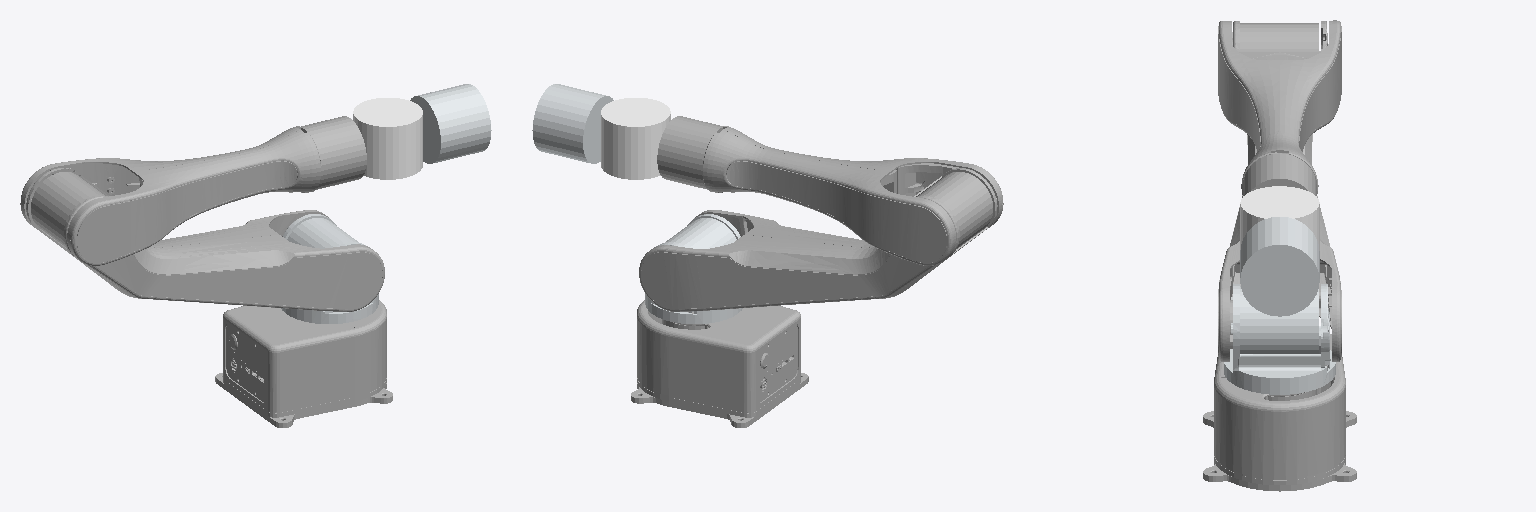
URDF robot description (airbot_play):
<?xml version="1.0" ?>
<!-- =================================================================================== -->
<!-- |    This document was autogenerated by xacro from src/robot_description/airbot/xacro/airbot.xacro | -->
<!-- |    EDITING THIS FILE BY HAND IS NOT RECOMMENDED                                 | -->
<!-- =================================================================================== -->
<robot name="airbot_play">
    <link name="base_link">
        <visual>
            <origin rpy="0 0 0" xyz="0 0 0"/>
            <geometry>
                <mesh filename="package://robot_description/airbot/meshes/base_link.STL"/>
            </geometry>
            <material name="">
                <color rgba="0.75294 0.75294 0.75294 1"/>
            </material>
        </visual>
        <collision>
            <origin rpy="0 0 0" xyz="0 0 0"/>
            <geometry>
                <mesh filename="package://robot_description/airbot/meshes/base_link.STL"/>
            </geometry>
        </collision>
        <inertial>
            <mass value="0.1"/>
            <origin rpy="0 0 0" xyz="0 0 0"/>
            <inertia ixx="0.03" ixy="0.0" ixz="0.0" iyy="0.03" iyz="0.0" izz="0.03"/>
        </inertial>
    </link>
    <link name="link1">
        <inertial>
            <origin rpy="0 0 0" xyz="7.9126E-05 -0.002527 -0.0041359"/>
            <mass value="0.5571"/>
            <inertia ixx="0.0003462" ixy="0" ixz="-1.4E-06" iyy="0.0002863" iyz="-1.1E-06" izz="0.0003255"/>
        </inertial>
        <visual>
            <origin rpy="0 0 0" xyz="0 0 0"/>
            <geometry>
                <mesh filename="package://robot_description/airbot/meshes/link1.STL"/>
            </geometry>
            <material name="">
                <color rgba="0.89804 0.91765 0.92941 1"/>
            </material>
        </visual>
        <collision>
            <origin rpy="0 0 0" xyz="0 0 0"/>
            <geometry>
                <mesh filename="package://robot_description/airbot/meshes/link1.STL"/>
            </geometry>
        </collision>
    </link>
    <joint name="joint1" type="revolute">
        <origin rpy="0 0 0" xyz="0 0 0.1172"/>
        <parent link="base_link"/>
        <child link="link1"/>
        <axis xyz="0 0 1"/>
        <limit effort="18" lower="-3.14" upper="2.09" velocity="3.14"/>
    </joint>
    <link name="link2">
        <inertial>
            <origin rpy="0 0 0" xyz="0.22493 0.0047721 0.008023"/>
            <mass value="0.64621"/>
            <inertia ixx="0.0004901" ixy="0.0005229" ixz="-0.0002434" iyy="0.0050391" iyz="-2.95E-05" izz="0.00195052"/>
        </inertial>
        <visual>
            <origin rpy="0 0 0" xyz="0 0 0"/>
            <geometry>
                <mesh filename="package://robot_description/airbot/meshes/link2.STL"/>
            </geometry>
            <material name="">
                <color rgba="0.75294 0.75294 0.75294 1"/>
            </material>
        </visual>
        <collision>
            <origin rpy="0 0 0" xyz="0 0 0"/>
            <geometry>
                <mesh filename="package://robot_description/airbot/meshes/link2.STL"/>
            </geometry>
        </collision>
    </link>
    <joint name="joint2" type="revolute">
        <origin rpy="1.5708 -2.7549 0" xyz="0 0 0"/>
        <parent link="link1"/>
        <child link="link2"/>
        <axis xyz="0 0 1"/>
        <limit effort="18" lower="-2.96" upper="0.17" velocity="3.14"/>
    </joint>
    <link name="link3">
        <inertial>
            <origin rpy="0 0 0" xyz="0.20055 -5.5576E-05 0.0019184"/>
            <mass value="0.44556"/>
            <inertia ixx="0.000167" ixy="-4E-07" ixz="-0.0001263" iyy="0.0006727" iyz="-1E-07" izz="0.00060895"/>
        </inertial>
        <visual>
            <origin rpy="0 0 0" xyz="0 0 0"/>
            <geometry>
                <mesh filename="package://robot_description/airbot/meshes/link3.STL"/>
            </geometry>
            <material name="">
                <color rgba="0.75294 0.75294 0.75294 1"/>
            </material>
        </visual>
        <collision>
            <origin rpy="0 0 0" xyz="0 0 0"/>
            <geometry>
                <mesh filename="package://robot_description/airbot/meshes/link3.STL"/>
            </geometry>
        </collision>
    </link>
    <joint name="joint3" type="revolute">
        <origin rpy="0 0 -2.7548" xyz="0.27009 0 0"/>
        <parent link="link2"/>
        <child link="link3"/>
        <axis xyz="0 0 1"/>
        <limit effort="18" lower="-0.087" upper="3.14" velocity="3.14"/>
    </joint>
    <link name="link4">
        <inertial>
            <origin rpy="0 0 0" xyz="0.0015 0.00040412 -0.002328"/>
            <mass value="0.345876"/>
            <inertia ixx="0.0004235" ixy="0" ixz="4.7E-06" iyy="0.00012" iyz="-1E-07" izz="0.0001269"/>
        </inertial>
        <visual>
            <origin rpy="1.57 0 0" xyz="0 0 0"/>
            <geometry>
                <cylinder length="0.05" radius="0.03"/>
                <!-- <mesh filename="package://robot_description/airbot/meshes/link4.STL" /> -->
            </geometry>
            <material name="">
                <color rgba="1 1 1 1"/>
            </material>
        </visual>
        <collision>
            <origin rpy="1.57 0 0" xyz="0 0 0"/>
            <geometry>
                <cylinder length="0.05" radius="0.03"/>
                <!-- <mesh filename="package://robot_description/airbot/meshes/link4.STL" /> -->
            </geometry>
        </collision>
    </link>
    <joint name="joint4" type="revolute">
        <origin rpy="3.1416 -1.5708 0" xyz="0.30854 0 0"/>
        <parent link="link3"/>
        <child link="link4"/>
        <axis xyz="0 0 1"/>
        <limit effort="3" lower="-2.96" upper="2.96" velocity="6.28"/>
    </joint>
    <link name="link5">
        <inertial>
            <origin rpy="0 0 0" xyz="8.3328E-06 0.026148 0.002525"/>
            <mass value="0.186636"/>
            <inertia ixx="0.0001825" ixy="0" ixz="-3.29E-05" iyy="0.0004677" iyz="0" izz="0.0004286"/>
        </inertial>
        <visual>
            <origin rpy="1.57 0 0" xyz="0 0.06 0"/>
            <geometry>
                <!-- <mesh filename="package://robot_description/airbot/meshes/link5.STL" /> -->
                <cylinder length="0.05" radius="0.03"/>
            </geometry>
            <material name="">
                <color rgba="0.89804 0.91765 0.92941 1"/>
            </material>
        </visual>
        <collision>
            <origin rpy="1.57 0 0" xyz="0 0.06 0"/>
            <geometry>
                <cylinder length="0.05" radius="0.03"/>
                <!-- <mesh filename="package://robot_description/airbot/meshes/link5.STL" /> -->
            </geometry>
        </collision>
    </link>
    <joint name="joint5" type="revolute">
        <origin rpy="1.5708 0 0" xyz="0 0 0"/>
        <parent link="link4"/>
        <child link="link5"/>
        <axis xyz="0 0 1"/>
        <limit effort="3" lower="-1.74" upper="1.74" velocity="6.28"/>
    </joint>
    <link name="link6">
        <inertial>
            <origin rpy="0 0 0" xyz="0 0 0"/>
            <mass value="1E-15"/>
            <inertia ixx="1E-11" ixy="1E-15" ixz="1E-15" iyy="1E-11" iyz="1E-15" izz="1E-11"/>
        </inertial>
    </link>
    <joint name="joint6" type="revolute">
        <origin rpy="0 0 1.5708" xyz="0 0.085 0"/>
        <parent link="link5"/>
        <child link="link6"/>
        <axis xyz="1 0 0"/>
        <limit effort="3" lower="-1.74" upper="1.74" velocity="6.28"/>
    </joint>
    <link name="end_link">
        <inertial>
            <origin rpy="0 0 0" xyz="0 0 0"/>
            <mass value="1E-15"/>
            <inertia ixx="1E-11" ixy="1E-15" ixz="1E-15" iyy="1E-11" iyz="1E-15" izz="1E-11"/>
        </inertial>
    </link>
    <joint name="joint_gripper_end" type="fixed">
        <origin rpy="0 0 0" xyz="0 0.0 0"/>
        <parent link="link6"/>
        <child link="end_link"/>
    </joint>
</robot>

--- Facts derived from the render (not from the file) ---
The picture shows the robot from 3 angles, left to right: view 1: azimuth 30°, elevation 25°; view 2: azimuth 150°, elevation 25°; view 3: azimuth 270°, elevation 25°; orthographic projection.
Model airbot_play with 8 links and 7 joints (6 revolute, 1 fixed), rooted at base_link, posed all joints at 0.
Visible links, largest first — view 1: link2, link3, base_link, link4, link5, link1; view 2: link2, link3, base_link, link4, link5, link1; view 3: base_link, link3, link1, link2, link5, link4.
Link boxes in pixels (x1,y1,x2,y2): link2: (26, 168, 384, 311); link3: (20, 116, 366, 265); base_link: (215, 300, 392, 427); link4: (353, 98, 422, 179); link5: (410, 84, 491, 163); link1: (281, 214, 378, 323); link2: (639, 168, 997, 311); link3: (657, 116, 1003, 265); base_link: (631, 300, 808, 427); link4: (601, 98, 670, 179); link5: (532, 84, 613, 163); link1: (645, 214, 742, 323); base_link: (1203, 334, 1356, 491); link3: (1218, 20, 1341, 195); link1: (1224, 284, 1335, 394); link2: (1218, 21, 1341, 361); link5: (1240, 217, 1319, 316); link4: (1240, 186, 1319, 250).
Bounding box of the posed robot: 0.4236 × 0.116 × 0.2491 m (x, y, z).
Meshes: 4 distinct files referenced, 4 mesh visuals loaded (4 binary STL).